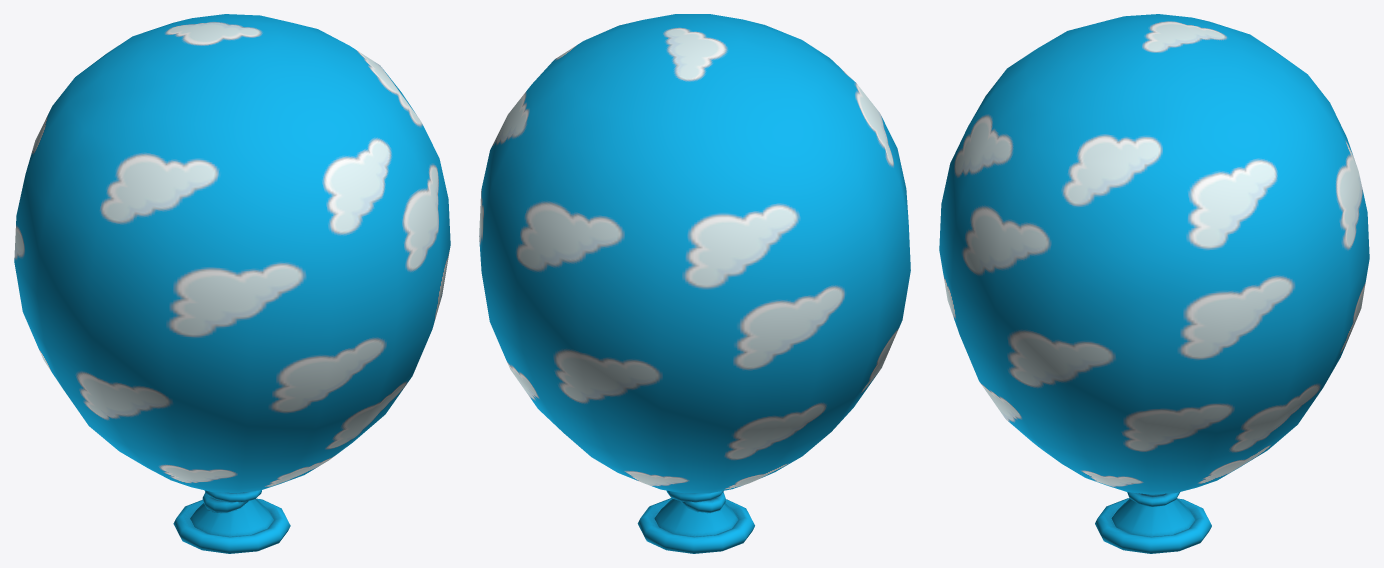
File: balloon.fbx
3 views of the same model, side by side, from view 1: azimuth 30°, elevation 25°; view 2: azimuth 150°, elevation 25°; view 3: azimuth 270°, elevation 25° (orthographic).
Visible parts, largest first — view 1: balloon; view 2: balloon; view 3: balloon.
Part boxes in pixels (bbox=[...]): balloon: bbox=[14, 14, 450, 553]; balloon: bbox=[479, 14, 910, 553]; balloon: bbox=[939, 14, 1369, 553].
Bounding box in the file's own units: 82.61 × 103 × 80.93.
Materials: 1 (1 with a texture image).
